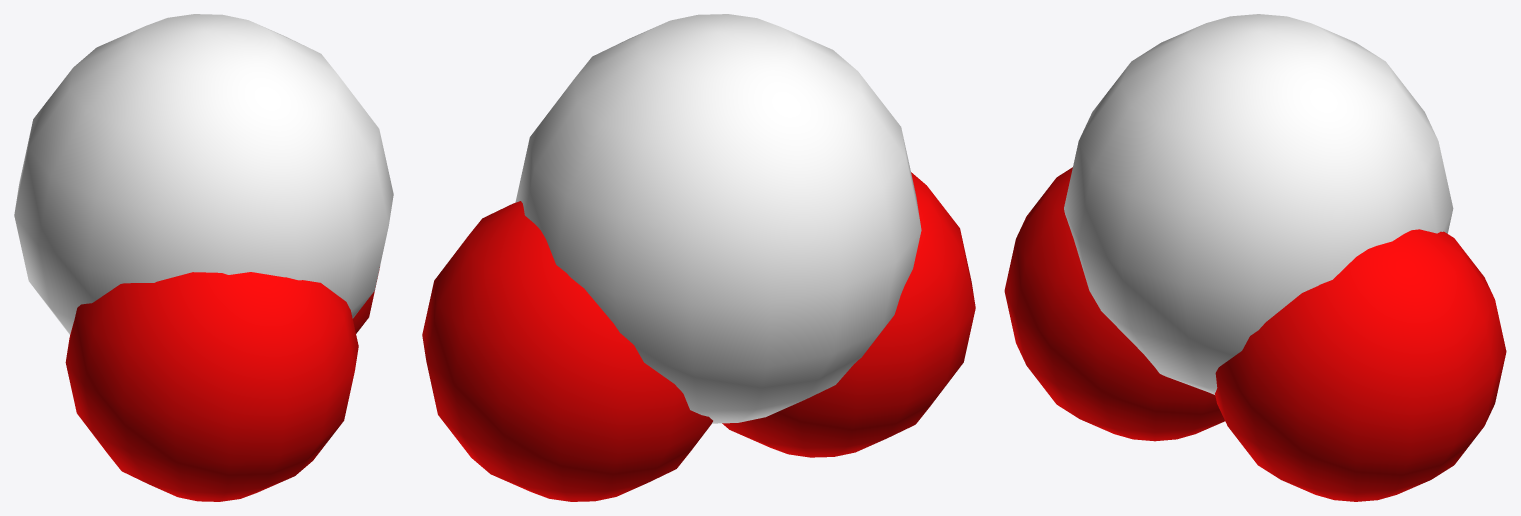
3 views of the same model, side by side, from view 1: azimuth 30°, elevation 25°; view 2: azimuth 150°, elevation 25°; view 3: azimuth 270°, elevation 25° (orthographic). The views are drawn at different scales.
Visible parts, largest first — view 1: H2O.001; view 2: H2O.001; view 3: H2O.001.
Part boxes in pixels (x1,y1,x2,y2): H2O.001: (14, 14, 393, 501); H2O.001: (422, 14, 975, 501); H2O.001: (1004, 14, 1506, 501).
Size of the model in its own units: 229 by 236 by 258.
